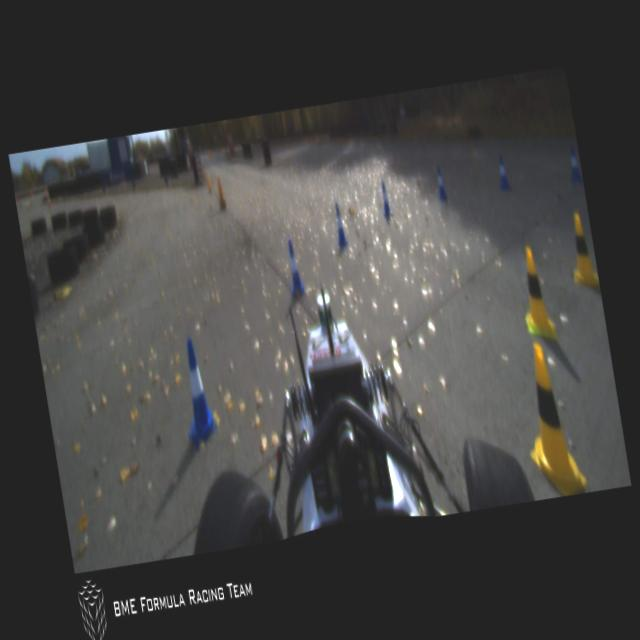blue_cone: (176, 339, 220, 449), (283, 240, 306, 301), (332, 202, 348, 246), (566, 144, 583, 184), (494, 154, 510, 192), (433, 166, 448, 202), (378, 182, 392, 218)
yellow_cone: (514, 340, 590, 500), (514, 242, 556, 344), (565, 212, 600, 292)
